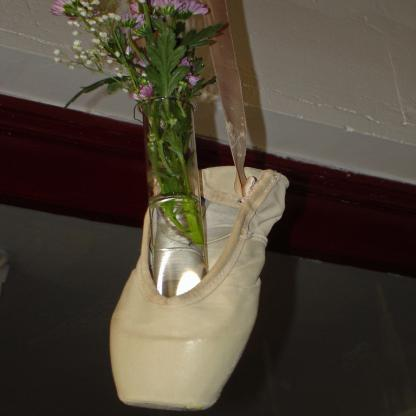vase: (132, 94, 209, 295)
